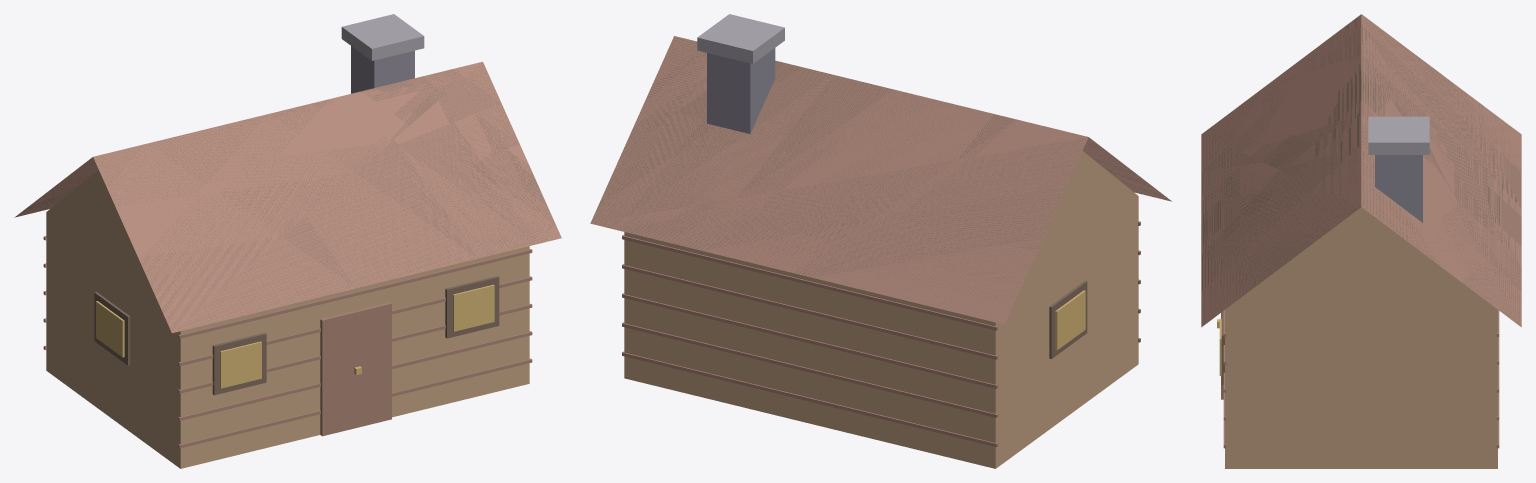
3 views of the same model, side by side, from view 1: azimuth 30°, elevation 25°; view 2: azimuth 150°, elevation 25°; view 3: azimuth 270°, elevation 25° (orthographic). The views are drawn at different scales.
Visible parts, largest first — view 1: model; view 2: model; view 3: model.
Part boxes in pixels (bbox=[...]): model: bbox=[14, 14, 561, 468]; model: bbox=[590, 14, 1171, 468]; model: bbox=[1201, 14, 1521, 468].
Size of the model in its own units: 6.7 by 5 by 4.7.
